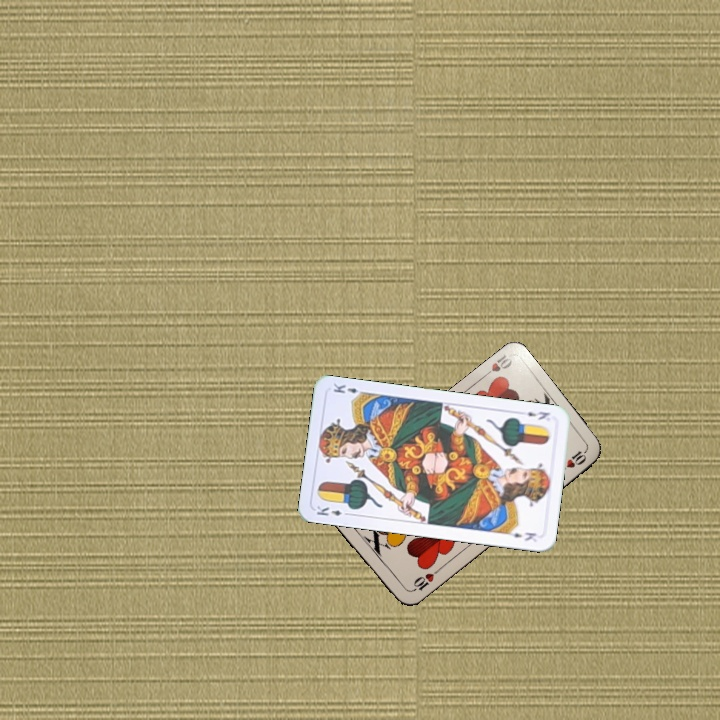EK: (312, 502, 353, 519), (523, 407, 552, 422)
H10: (478, 350, 514, 381), (406, 565, 441, 595)
